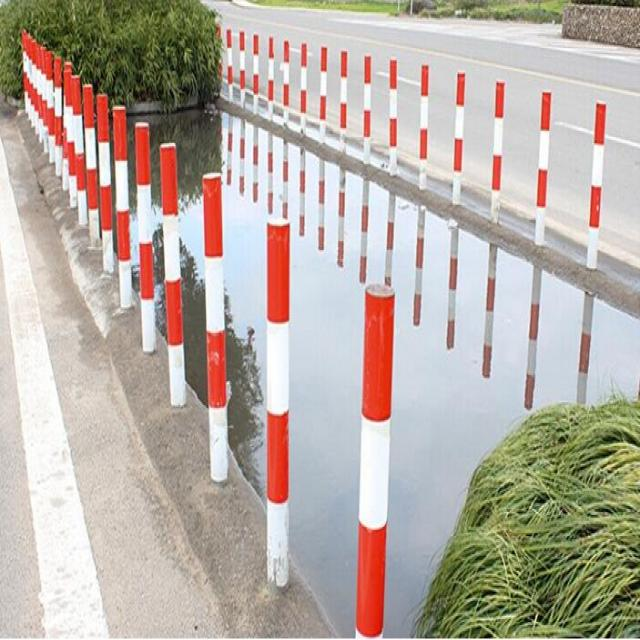warning_column: (351, 279, 398, 637), (259, 215, 294, 586), (200, 166, 230, 482), (160, 142, 188, 406), (133, 119, 156, 352), (110, 102, 133, 308), (584, 96, 607, 266), (95, 90, 112, 272), (534, 89, 552, 241), (487, 78, 506, 218), (82, 80, 98, 239), (415, 60, 430, 190), (451, 70, 465, 204), (386, 56, 399, 174), (362, 51, 374, 157), (337, 48, 348, 151), (316, 44, 328, 138), (298, 39, 308, 133), (280, 38, 290, 124), (266, 33, 276, 116), (250, 32, 260, 112), (225, 26, 234, 100), (238, 29, 245, 107)
